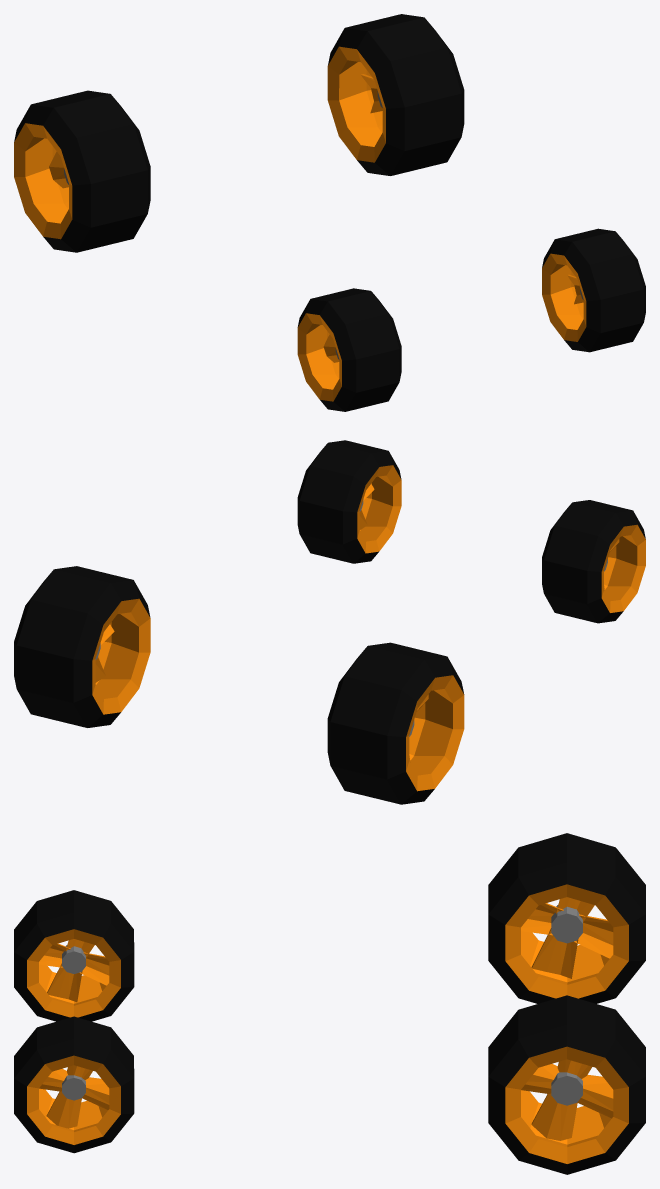
The model's file is Wheels2.obj.
3 views of the same model, one above another, from view 1: azimuth 30°, elevation 25°; view 2: azimuth 150°, elevation 25°; view 3: azimuth 270°, elevation 25° (orthographic). The views are drawn at different scales.
Parts seen in each view (by area): view 1: Wheels2_Cylinder.008; view 2: Wheels2_Cylinder.008; view 3: Wheels2_Cylinder.008.
Part boxes in pixels (left/top/right/bottom): Wheels2_Cylinder.008: left=14, top=14, right=645, bottom=411; Wheels2_Cylinder.008: left=14, top=440, right=645, bottom=804; Wheels2_Cylinder.008: left=14, top=833, right=645, bottom=1174.
Bounding box in the file's own units: 8.31 × 2.87 × 10.94.
